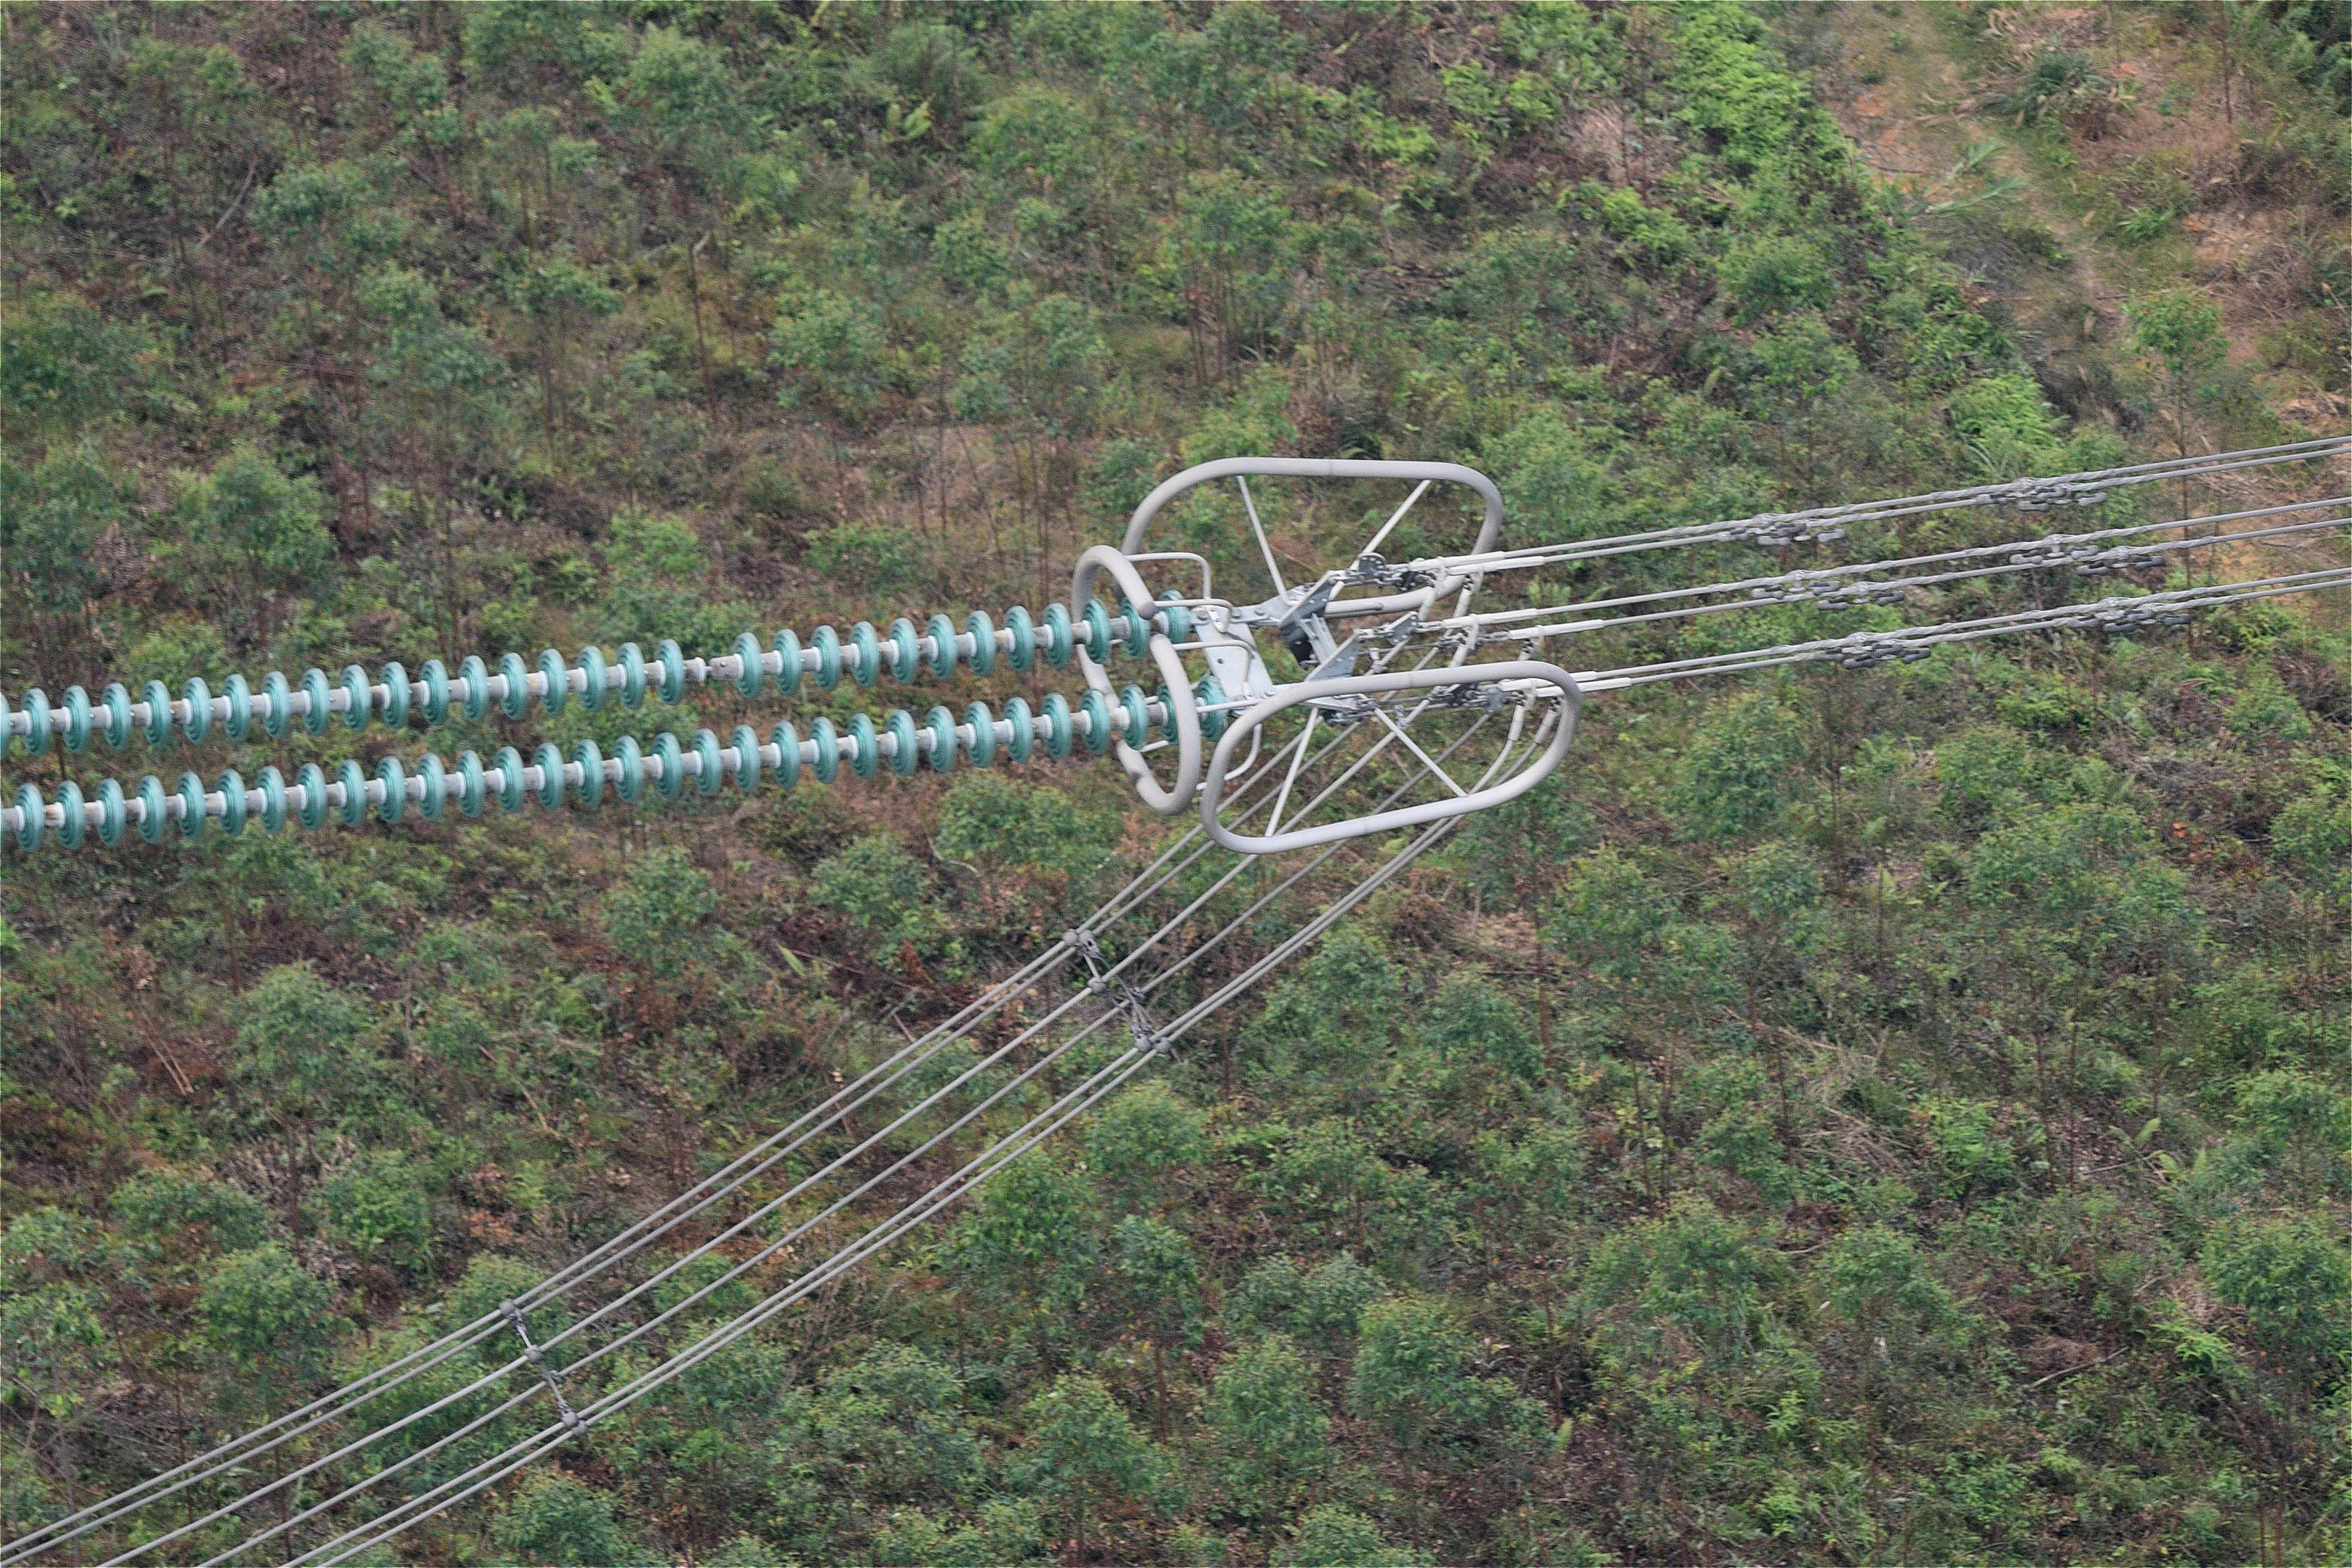insultor3: (0, 555, 1284, 882)
